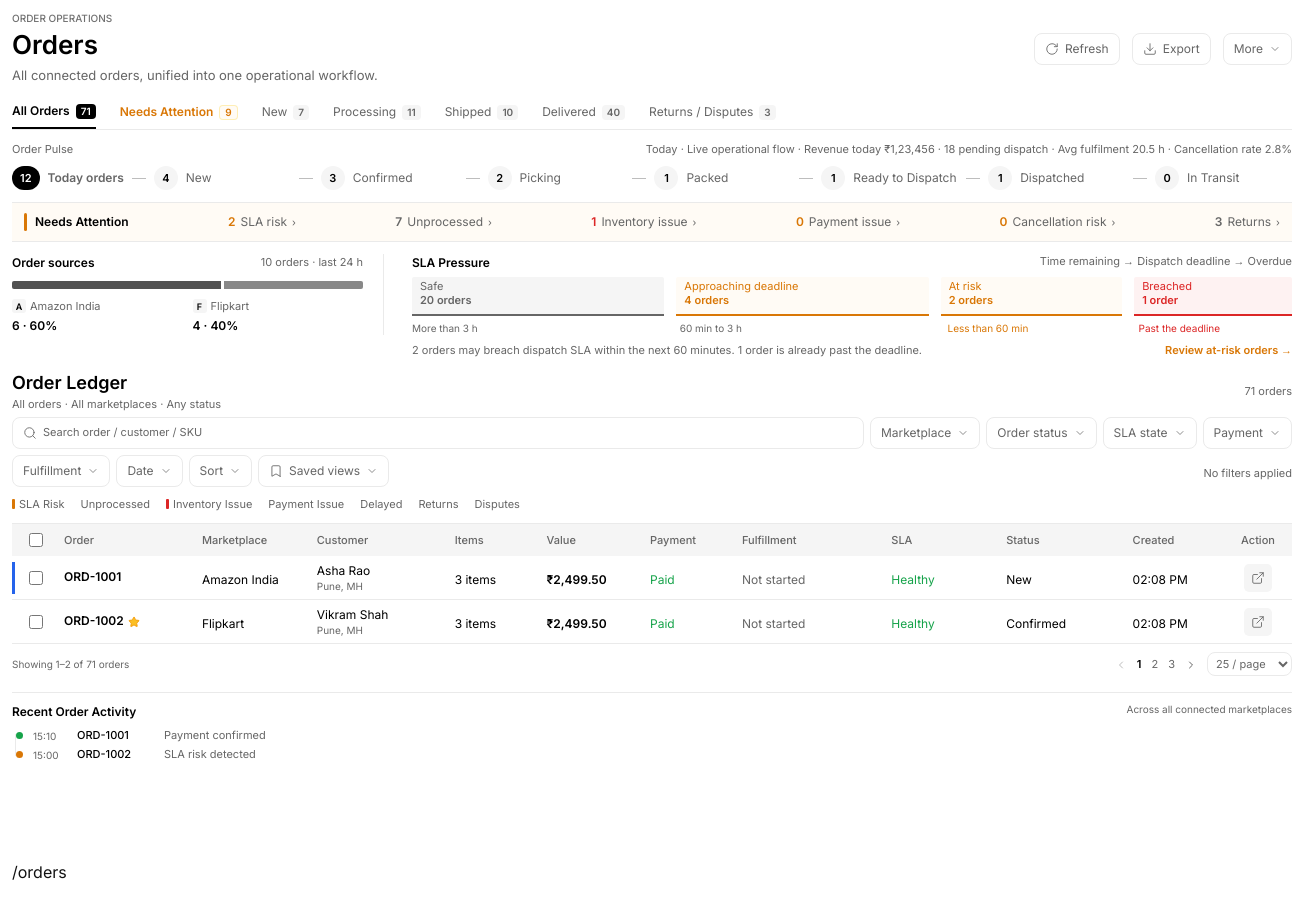
pulse, needs attention, sources, SLA pressure and tabs from the API › shows the SLA pressure text from the API and reviews at-risk orders on click
The image size is (1304, 912).
Expected: the message shows "2 orders may breach dispatch SLA within the next 60 minutes.", left=412, top=343, right=735, bottom=357
Expected: the message shows "1 order is already past the deadline", left=735, top=343, right=922, bottom=357
What coordinates should you click on to do the following:
click the button "Review at-risk orders →"
I would click on:
 (1229, 351)
Its box is left=1165, top=344, right=1292, bottom=357.
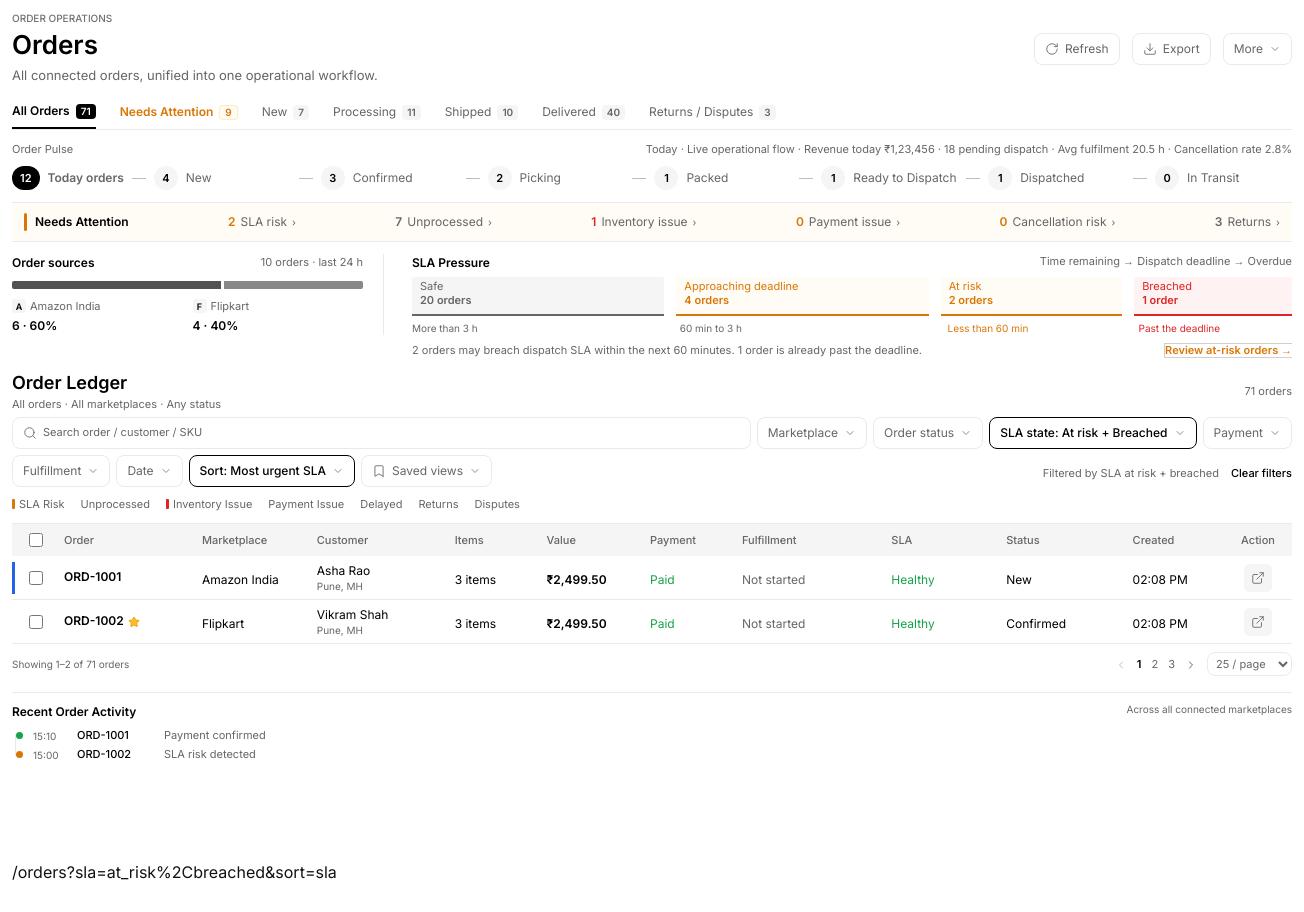
Expected: the text with test id "loc" shows "sla=at_risk%2Cbreached", left=12, top=862, right=337, bottom=882
Expected: the text with test id "loc" shows "sort=sla", left=12, top=862, right=337, bottom=882
